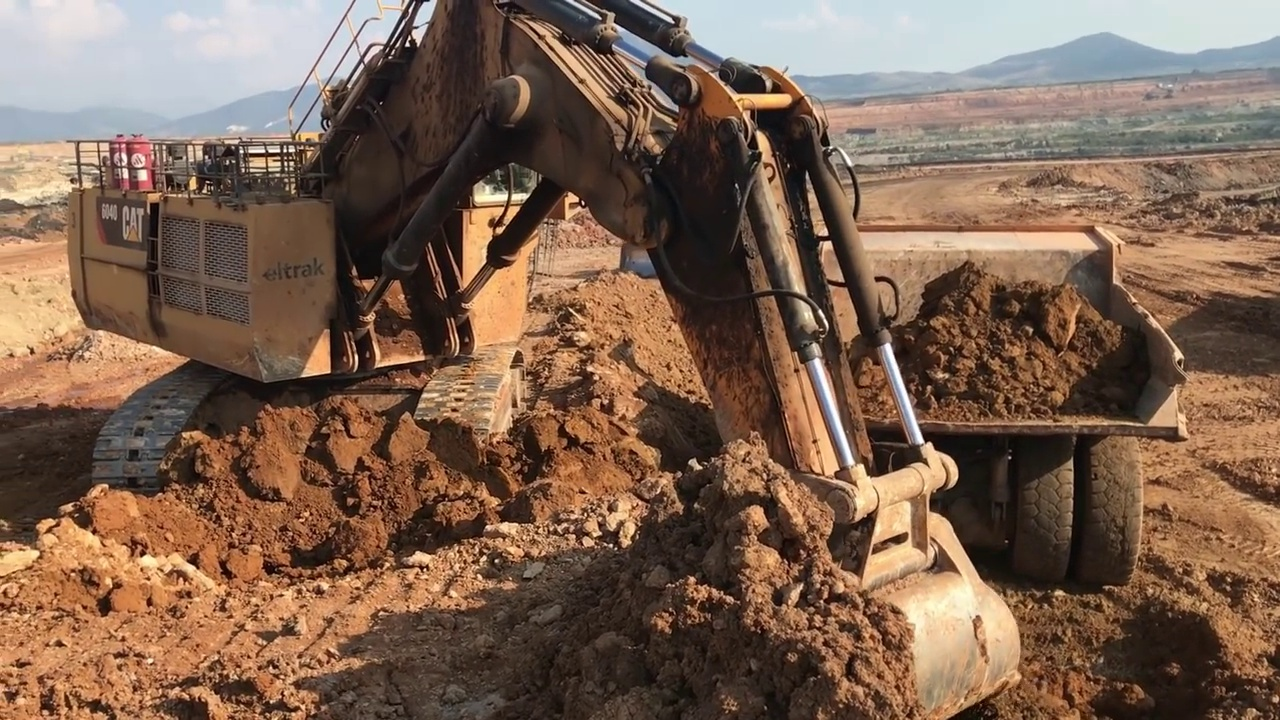dumper: (778, 222, 1188, 586)
excavator: (66, 4, 1028, 720)
